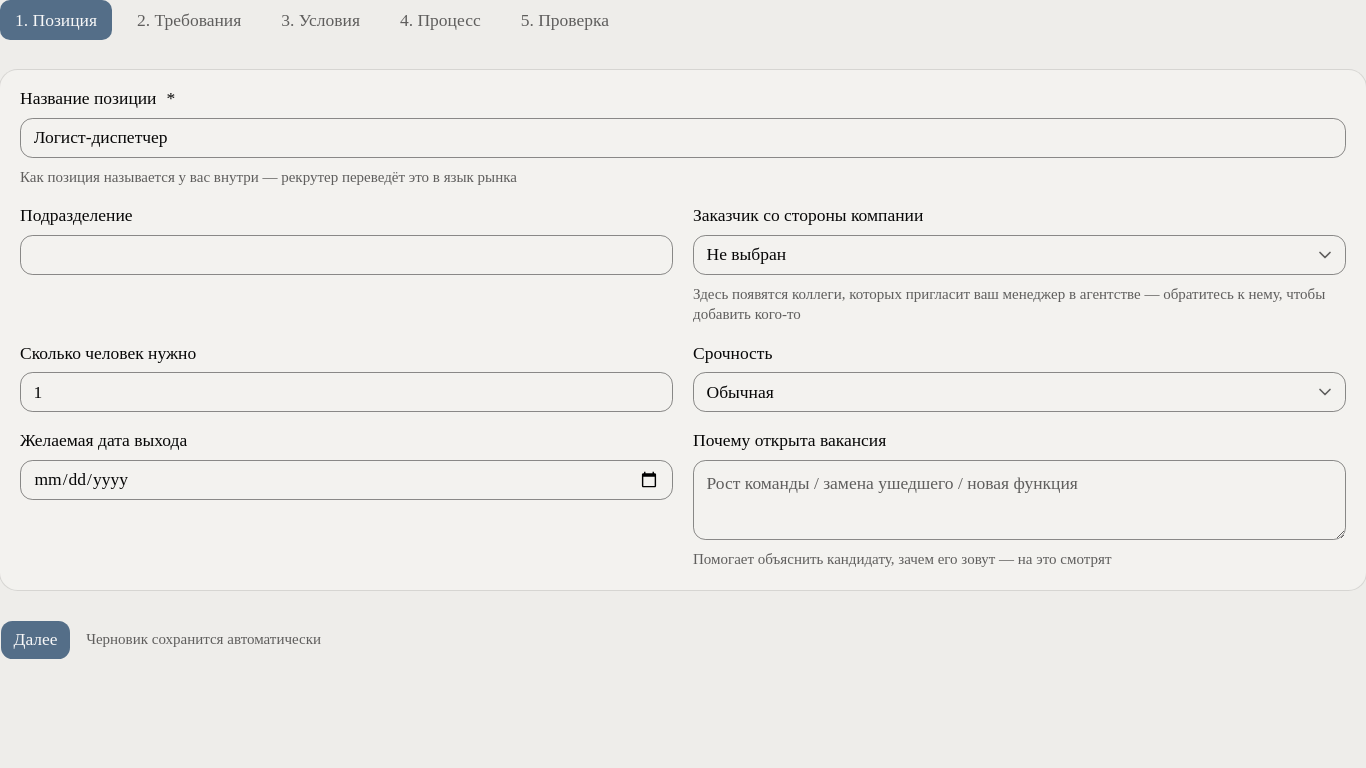
Scenario: мастер заявки: требования к отправке видны заранее › пустое поле сразу говорит о пороге, а не молчит
Click the button "Далее": (36, 640) [0,620,71,660]
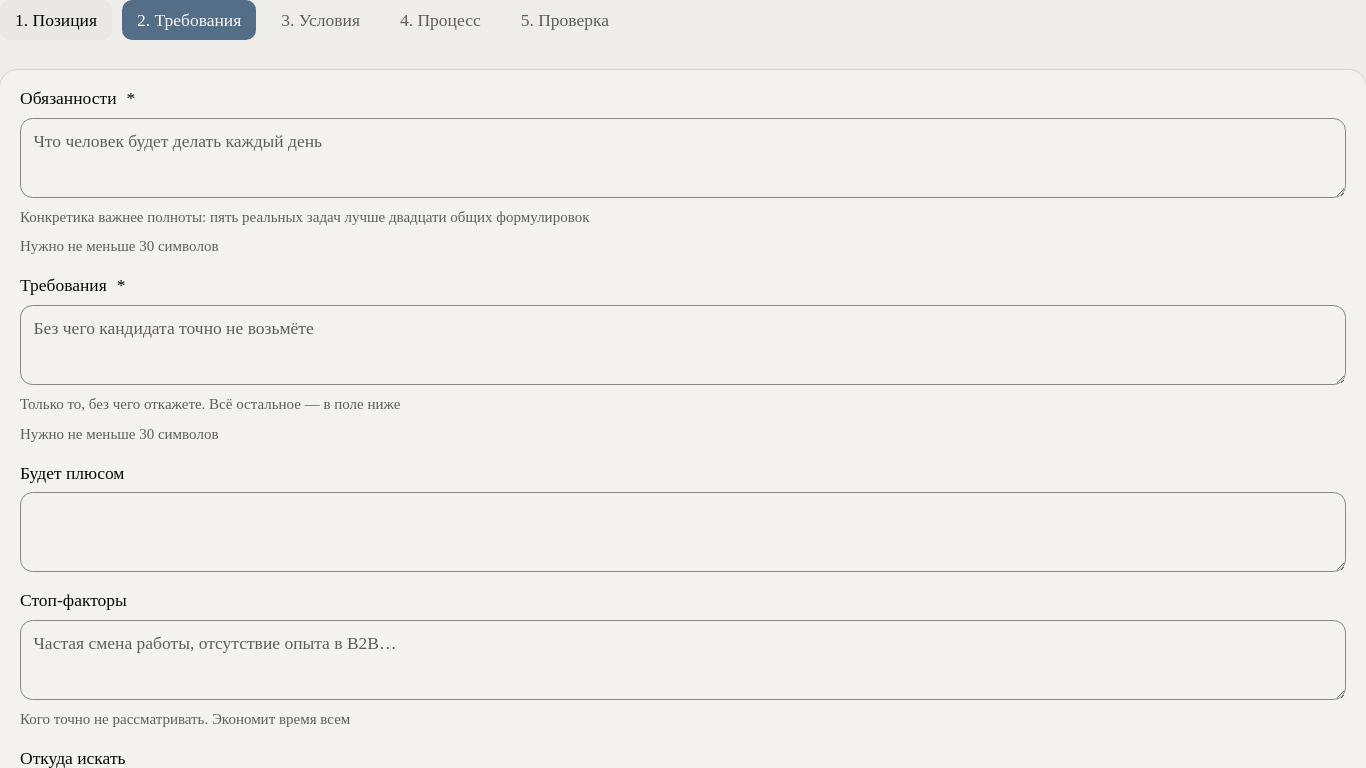
expect the text "Нужно не меньше 30 символов" below "Обязанности" is shown: met, box [20,238,218,254]
